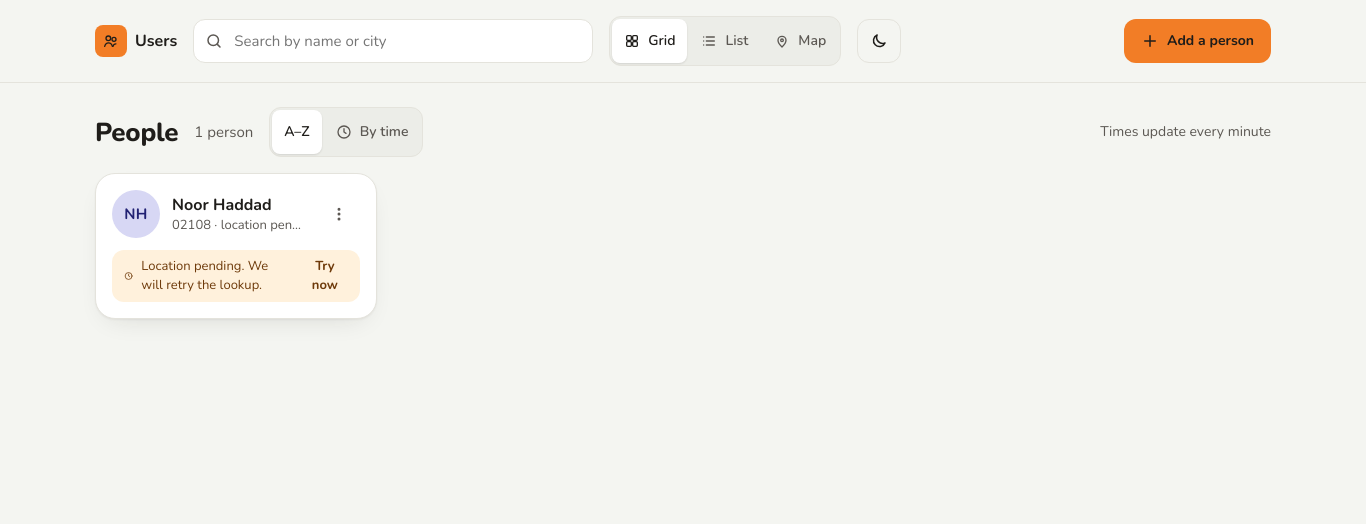
App › a pending card can retry its lookup
Expected: the list named "People" is shown, [95,173,377,319]
Expected: the text "02108 · location pending" is shown, [172,216,306,234]
Click the button "Try now" at (325, 276), box [294,254,356,298]
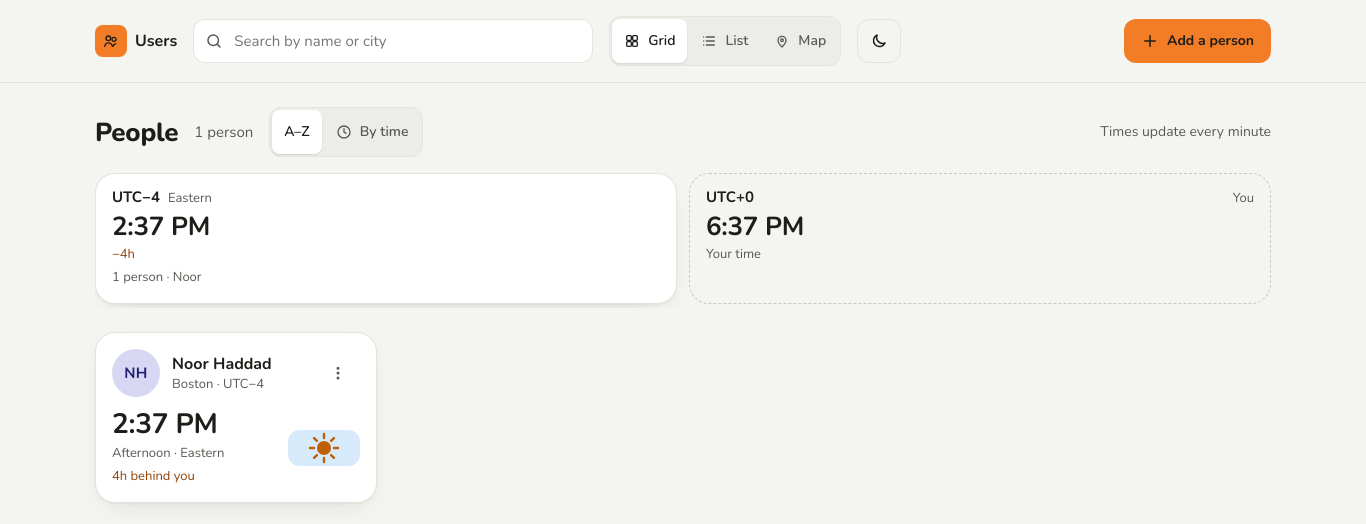
Expected: the text "Boston · UTC−4" is shown, [172,374,272,394]
